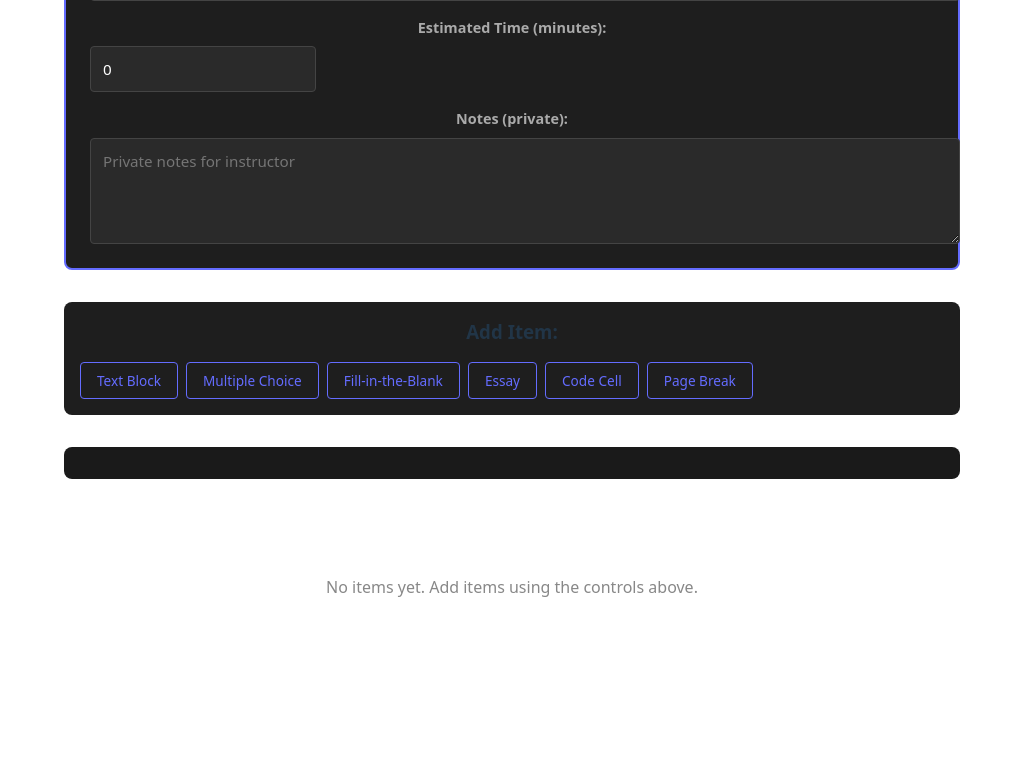
Test: AssignmentEditor › adds a page break when page break button is clicked
This screenshot has width=1024, height=764.
(page scrolled)
What coordinates should you click on to do the following:
click the button with test id "add-page-break"
I would click on:
 (700, 381)
Its box is [647, 362, 753, 399].
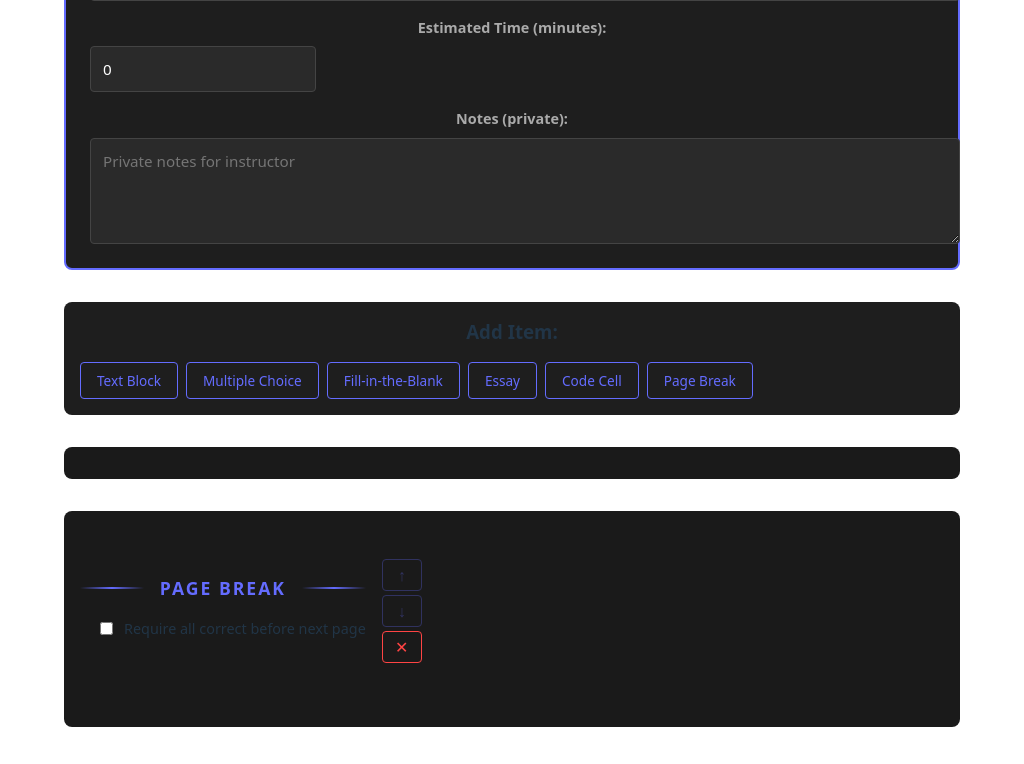
Check: the element with test id "item-1" is shown, box [80, 559, 422, 663]
